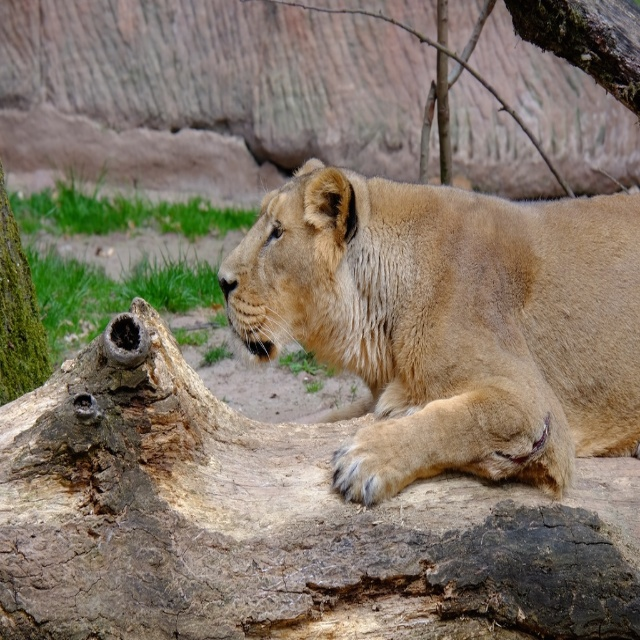Lion: (216, 157, 638, 508)
